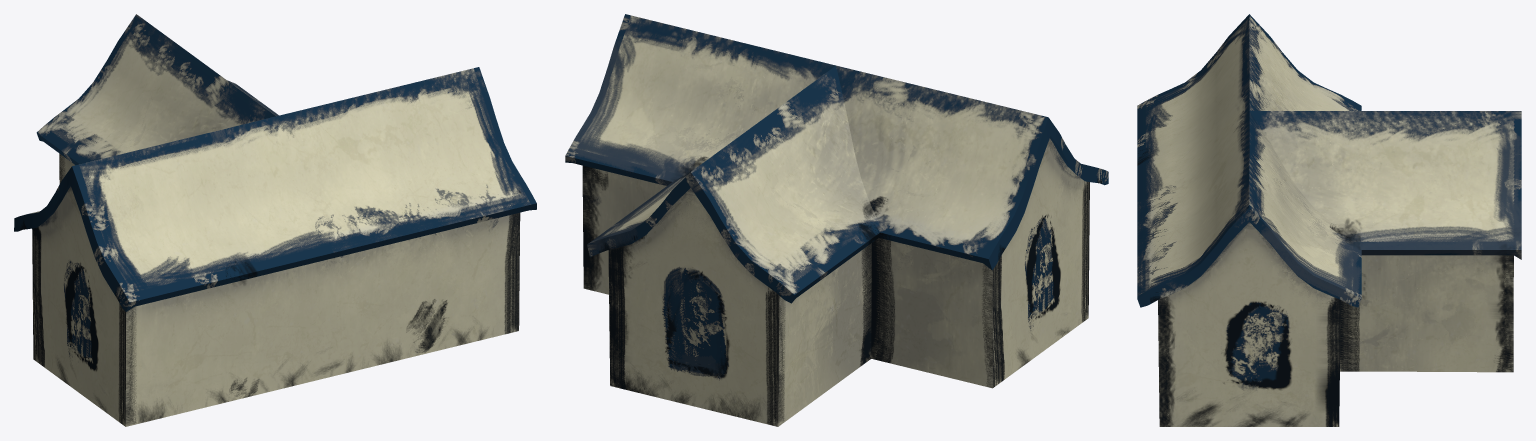
Rendered from IGLESIA.fbx.
The picture shows the model from 3 angles, left to right: view 1: azimuth 30°, elevation 25°; view 2: azimuth 150°, elevation 25°; view 3: azimuth 270°, elevation 25°; orthographic projection. The views are drawn at different scales.
Visible parts, largest first — view 1: iglesia; view 2: iglesia; view 3: iglesia.
Boxes of the visible parts, x1,y1,x2,y2 form: iglesia: (14, 14, 536, 426); iglesia: (565, 14, 1108, 426); iglesia: (1137, 14, 1521, 426).
Bounding box in the file's own units: 848 × 451 × 706.
Materials: 1 (1 with a texture image).
